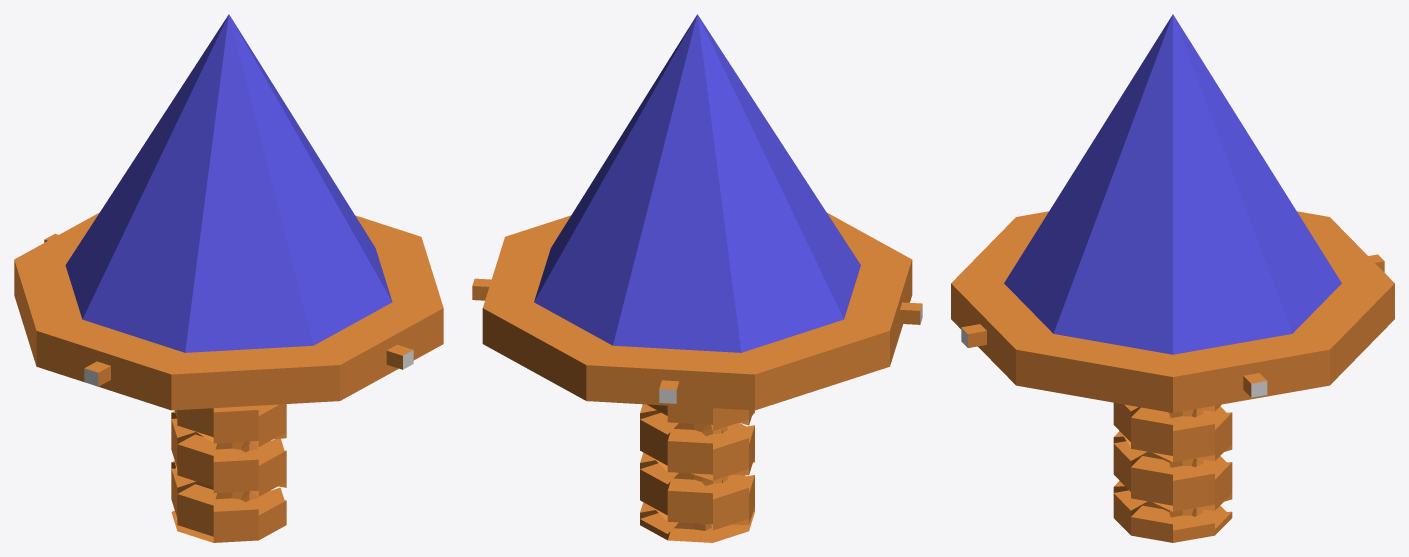
Rendered from wizardTowerInterior.fbx.
3 renders of one model, left to right at view 1: azimuth 30°, elevation 25°; view 2: azimuth 150°, elevation 25°; view 3: azimuth 270°, elevation 25°, orthographic.
Visible parts, largest first — view 1: Cylinder; view 2: Cylinder; view 3: Cylinder.
Boxes of the visible parts, bbox=[...] form: Cylinder: bbox=[14, 14, 443, 542]; Cylinder: bbox=[472, 14, 922, 542]; Cylinder: bbox=[951, 14, 1394, 542].
Size of the model in its own units: 2240 by 2806 by 2240.
